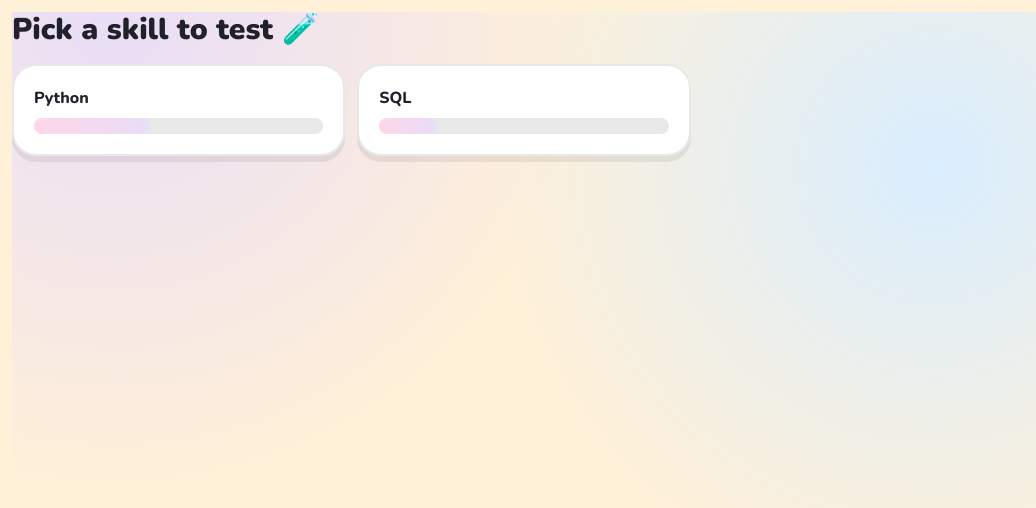
it: Assess (quiz workflow) › shows an announced error if the quiz cannot be loaded
Click the button "Python": (179, 110) left=12, top=64, right=345, bottom=156
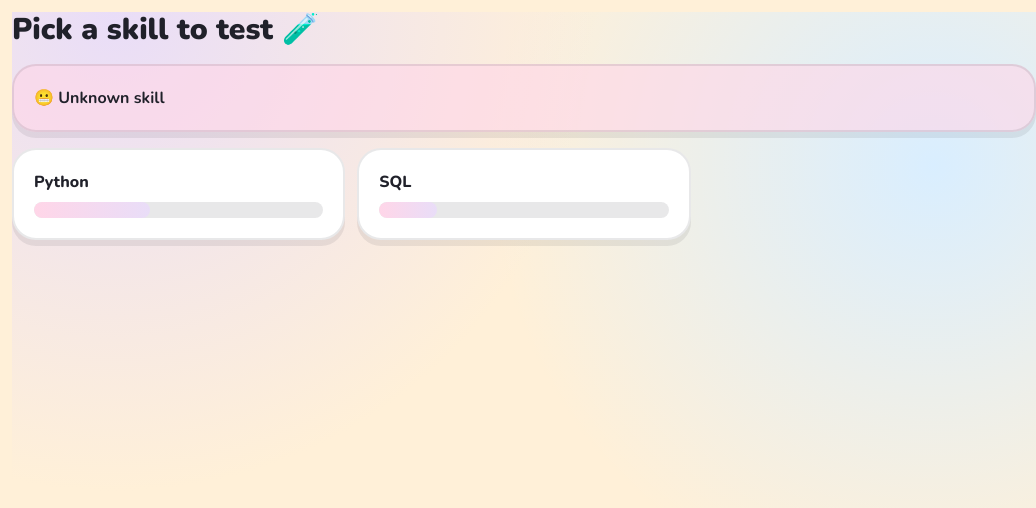
expect the message shows "Unknown skill": met, box left=58, top=87, right=164, bottom=109
